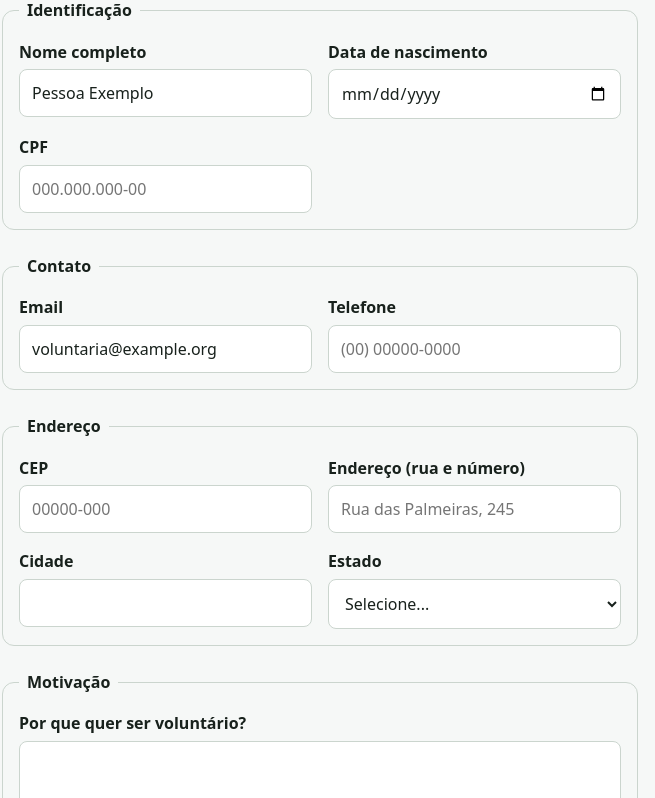
Scenario: formats values and submits a volunteer through the shared form
This screenshot has width=655, height=798.
Earlier steps of the test are not shown.
Later steps or results of the test are not shown.
Type "1990-03-15" into the date field labelled "Data de nascimento". click: x=474, y=94
box: left=328, top=69, right=621, bottom=119
Type "12345678909" into the field labelled "CPF". click: x=166, y=189
box: left=19, top=165, right=312, bottom=213
Type "48912345678" into the field labelled "Telefone". click: x=474, y=349
box: left=328, top=325, right=621, bottom=373
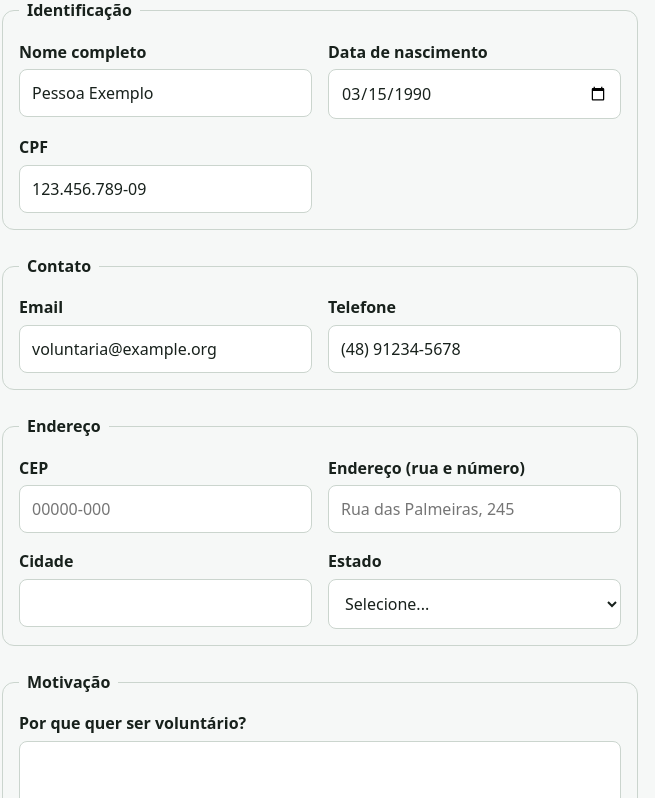
Type "88000000" into the field labelled "CEP". click: x=166, y=509
box: left=19, top=485, right=312, bottom=533
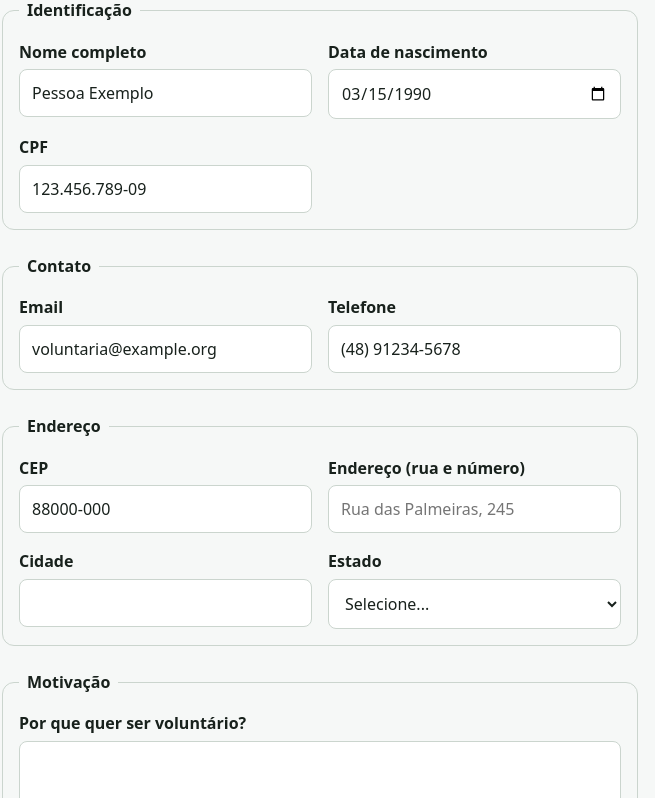
Type "Rua de Exemplo, 42" into the field labelled "Endereço (rua e número)". click: x=474, y=509
box: left=328, top=485, right=621, bottom=533
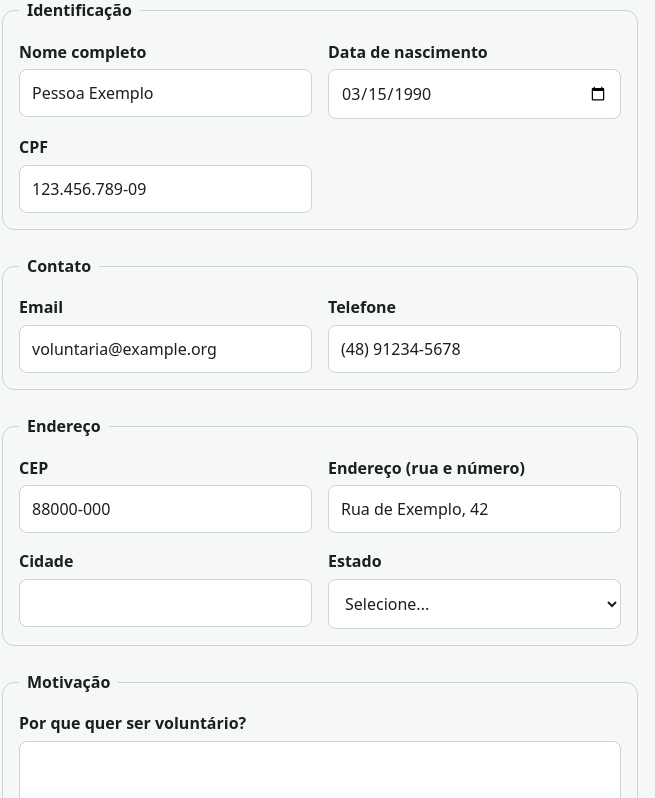
Type "Florianópolis" into the field labelled "Cidade". click: x=166, y=603
box: left=19, top=579, right=312, bottom=627
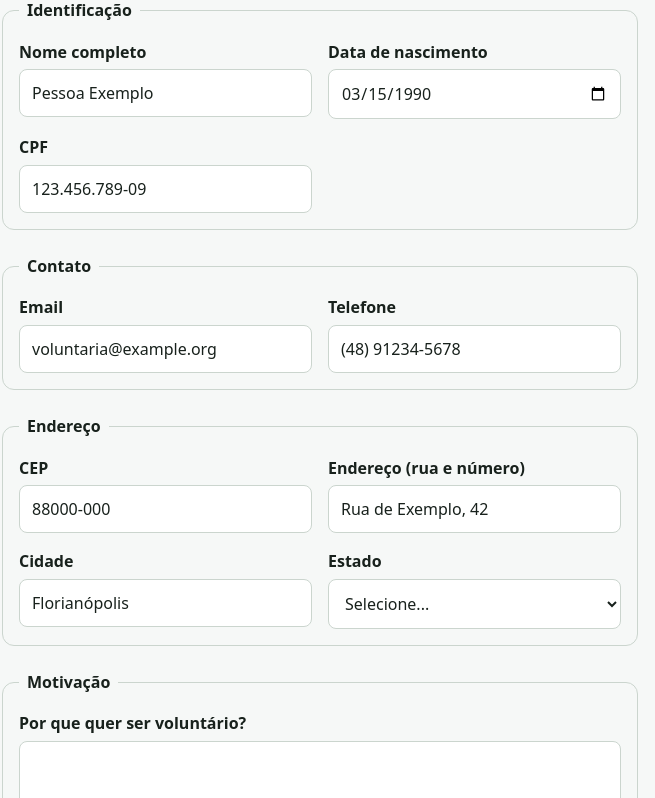
Select "Santa Catarina" in the dropdown labelled "Estado". click: x=474, y=604
box: left=328, top=579, right=621, bottom=629
(page scrolled)
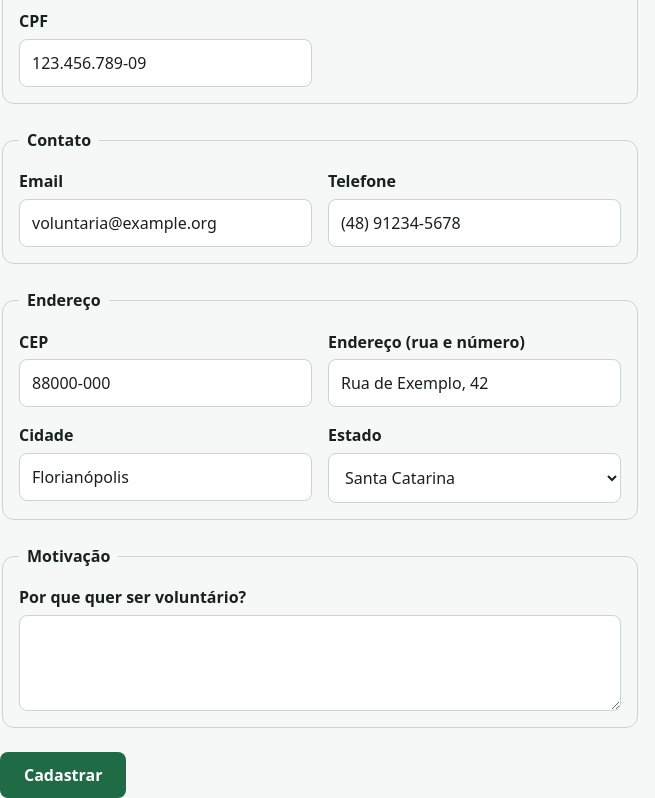
Type "Gostaria de ajudar nas atividades da comunidade." into the text box labelled "Por que quer ser voluntário?". click: x=320, y=663
box: left=19, top=615, right=621, bottom=711
(page scrolled)
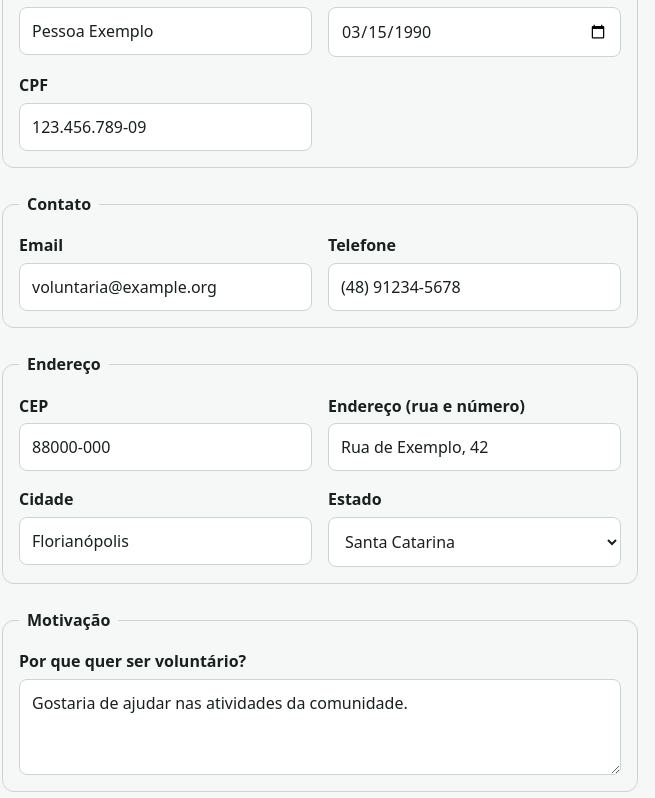
Now the field labelled "CPF" holds "123.456.789-09", box left=19, top=103, right=312, bottom=151
